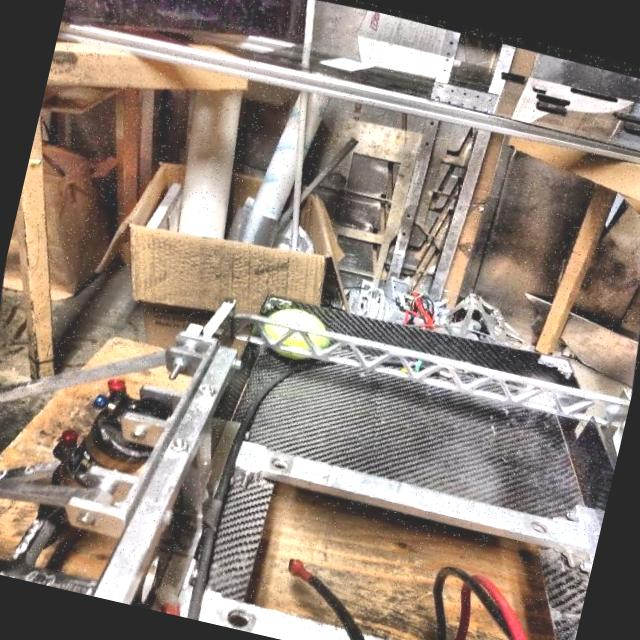tennis-ball: (255, 296, 338, 368)
